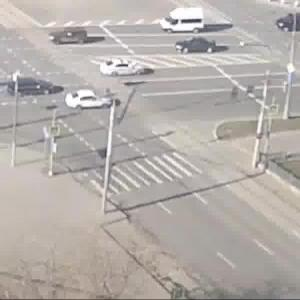car: (156, 8, 204, 33), (100, 59, 145, 80), (175, 37, 219, 57), (66, 92, 117, 109), (1, 79, 55, 94), (51, 30, 89, 46), (277, 14, 300, 33)
